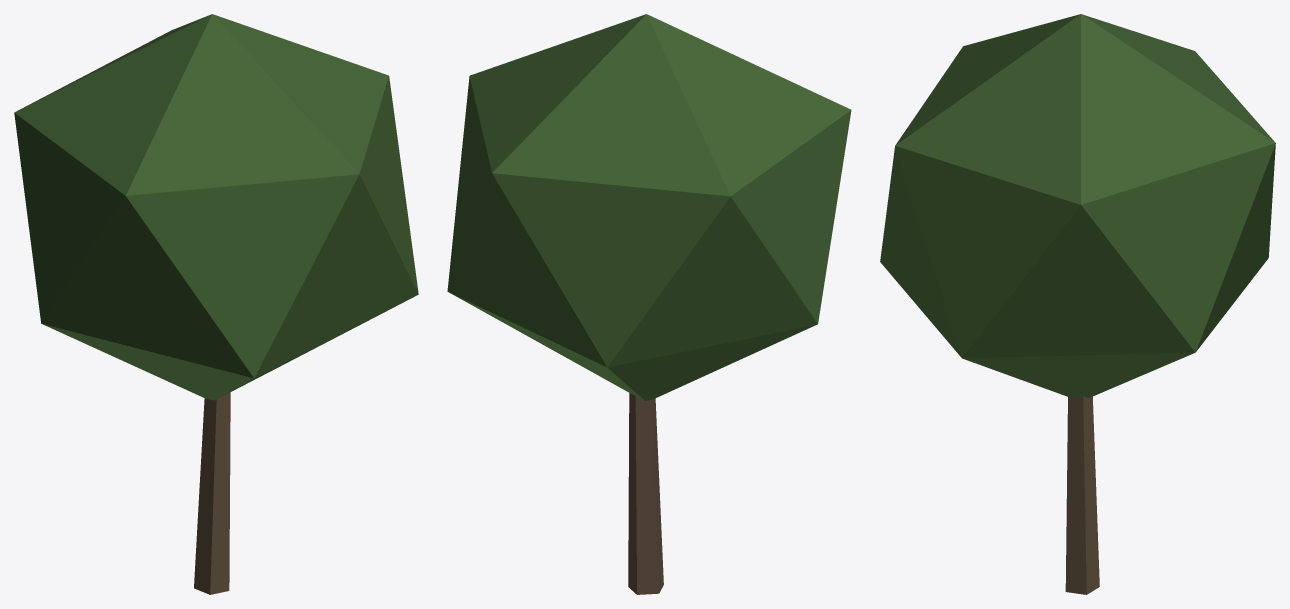
Rendered from broadleaf-lod2.glb.
3 views of the same model, side by side, from view 1: azimuth 30°, elevation 25°; view 2: azimuth 150°, elevation 25°; view 3: azimuth 270°, elevation 25° (orthographic).
Parts seen in each view (by area): view 1: Broadleaf_LOD2; view 2: Broadleaf_LOD2; view 3: Broadleaf_LOD2.
Part boxes in pixels (box(x1,y1,x2,y2)): Broadleaf_LOD2: box(14, 14, 418, 594); Broadleaf_LOD2: box(447, 14, 851, 594); Broadleaf_LOD2: box(880, 14, 1275, 594).
Bounding box in the file's own units: 4.91 × 7.74 × 4.84.
